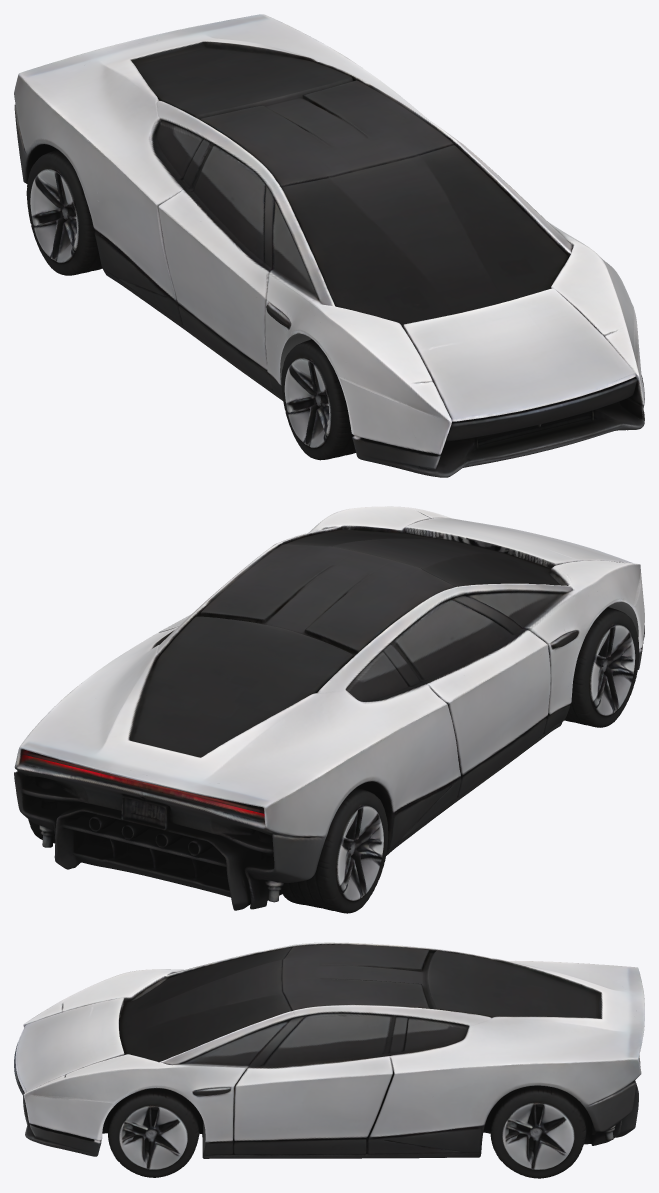
File: roadster-drive-ready.glb
The picture shows the model from 3 angles, top to bottom: view 1: azimuth 30°, elevation 25°; view 2: azimuth 150°, elevation 25°; view 3: azimuth 270°, elevation 25°; orthographic projection. The views are drawn at different scales.
Visible parts, largest first — view 1: Body, Wheel_RR, Wheel_FR; view 2: Body, Wheel_RR, Wheel_FR; view 3: Body, Wheel_RL, Wheel_FL.
Boxes of the visible parts, <box> form: Body: <box>14,14,644,477</box>; Wheel_RR: <box>26,149,102,275</box>; Wheel_FR: <box>281,339,355,460</box>; Body: <box>14,506,644,910</box>; Wheel_RR: <box>280,787,388,913</box>; Wheel_FR: <box>564,607,639,727</box>; Body: <box>14,942,644,1158</box>; Wheel_RL: <box>490,1085,587,1178</box>; Wheel_FL: <box>107,1088,200,1177</box>.
Bounding box in the file's own units: 1.99 × 1.22 × 4.6.
Materials: 2 (1 with a texture image).
